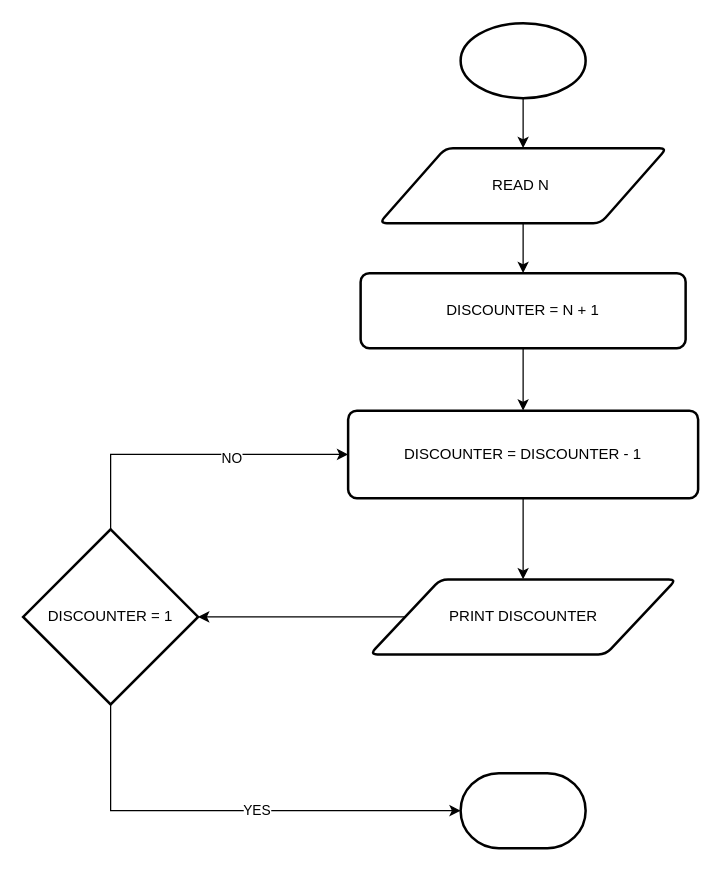
The diagram is 720 pixels wide and 870 high, and some of its shapes have lost their labels. Each missing label, with the centre of its shape:
END: pixel 522 810
START: pixel 522 60
